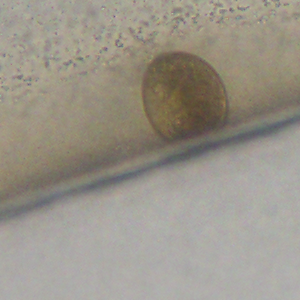Fasciola_hepatica_egg: (139, 48, 228, 145)
